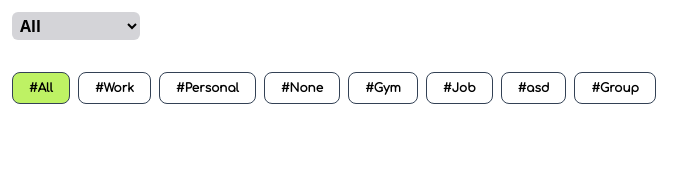
Test: Filter section › Should change the value of the context
This screenshot has width=673, height=172.
Click the button "#Work". click: (114, 88)
box: [78,72,151,104]
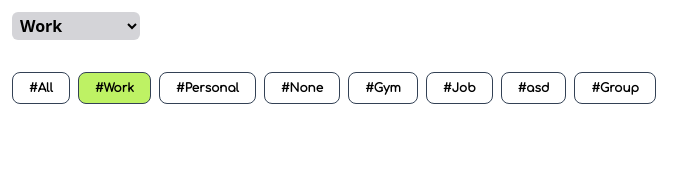
Expected: the dropdown titled "tag" shows "Work", [12,12,140,40]
